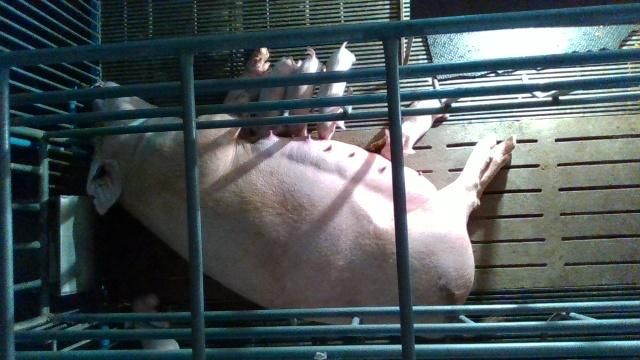piglet: (371, 98, 450, 161), (313, 41, 355, 140), (256, 56, 303, 136), (286, 46, 325, 139)
sow-sleep-lactate: (84, 48, 515, 340)
